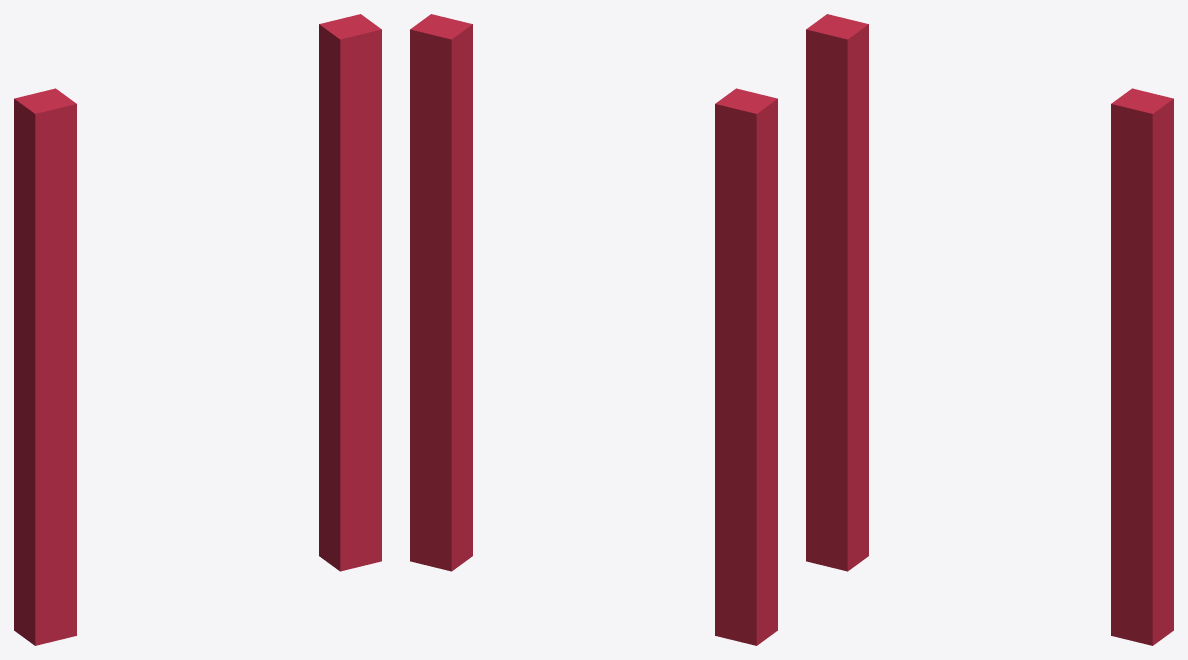
File: obstacle_1.fbx
The picture shows the model from 3 angles, left to right: view 1: azimuth 30°, elevation 25°; view 2: azimuth 150°, elevation 25°; view 3: azimuth 330°, elevation 25°; orthographic projection.
Parts seen in each view (by area): view 1: pCube8, pCube9; view 2: pCube8, pCube9; view 3: pCube8, pCube9.
Part boxes in pixels (box(x1,y1,x2,y2)): pCube8: box(319, 14, 381, 571); pCube9: box(14, 88, 76, 645); pCube8: box(410, 14, 472, 571); pCube9: box(715, 88, 777, 645); pCube8: box(1111, 88, 1173, 645); pCube9: box(806, 14, 868, 571).
Size of the model in its own units: 0.1899 by 1.8 by 2.64.
